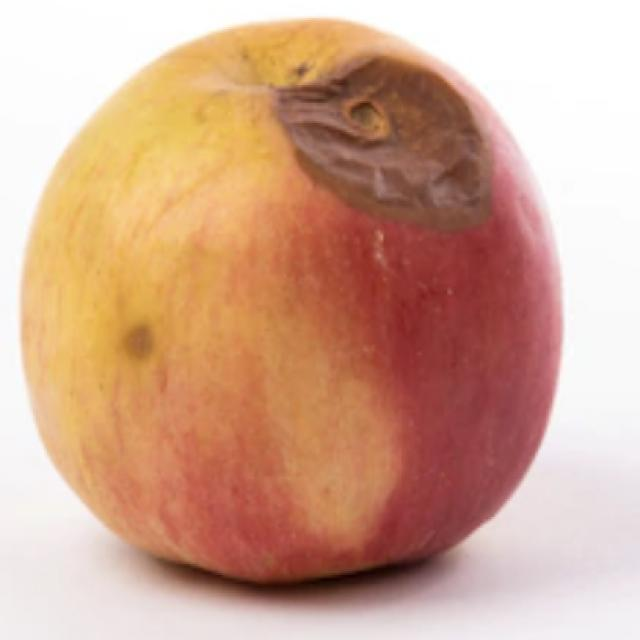rotten_apple: (20, 23, 566, 588)
